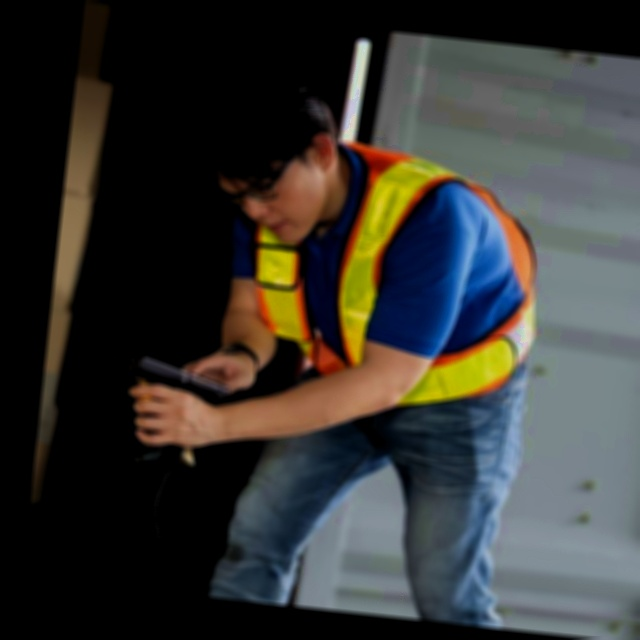Con_Chaleco: (247, 140, 547, 400)
Sin_Casco_Mascarrilla: (187, 69, 345, 248)
